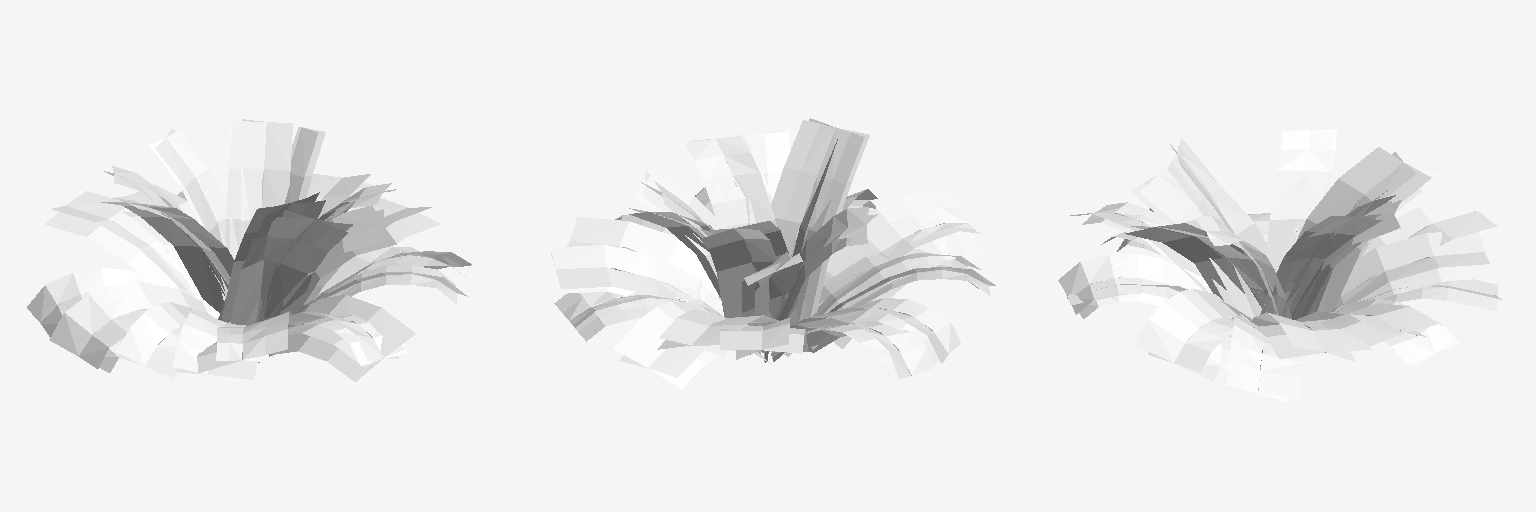
The model's file is Cabbage_Palm_Fern_Model_0.obj.
The picture shows the model from 3 angles: view 1: azimuth 30°, elevation 25°; view 2: azimuth 150°, elevation 25°; view 3: azimuth 270°, elevation 25°; orthographic projection.
Visible parts, largest first — view 1: Foliage; view 2: Foliage; view 3: Foliage.
Part boxes in pixels (x1,y1,x2,y2): Foliage: (27, 119, 471, 383); Foliage: (551, 118, 995, 389); Foliage: (1058, 129, 1501, 402).
Size of the model in its own units: 2.06 by 1 by 2.08.